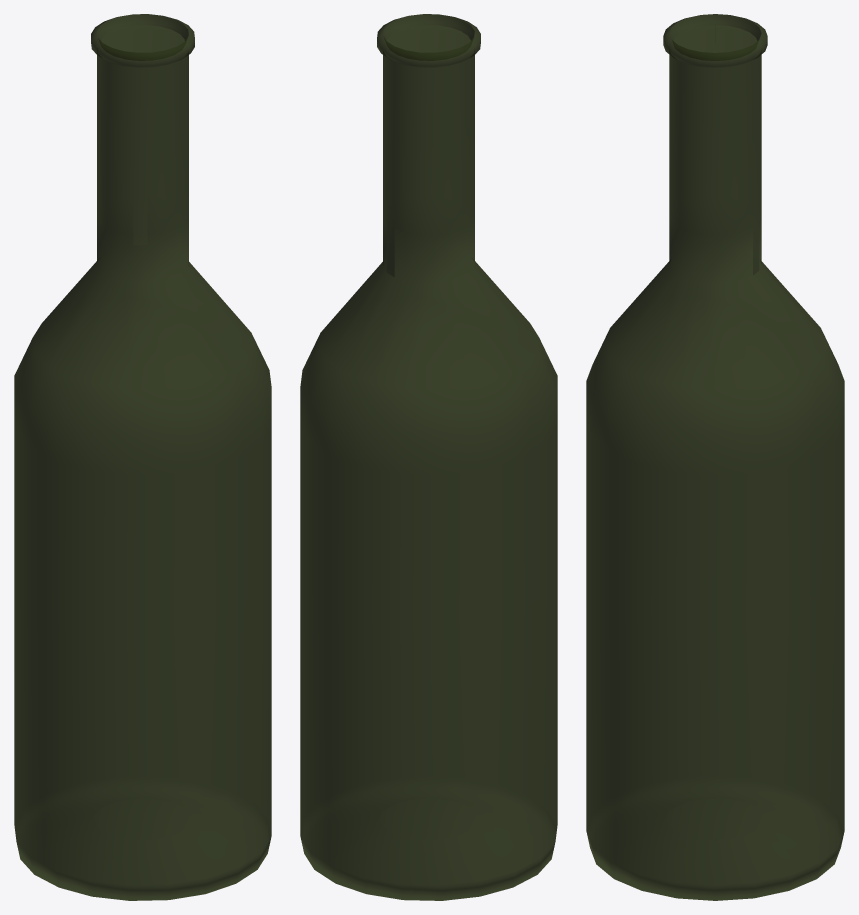
File: Flasche_Grün.fbx
The picture shows the model from 3 angles, left to right: view 1: azimuth 30°, elevation 25°; view 2: azimuth 150°, elevation 25°; view 3: azimuth 270°, elevation 25°; orthographic projection.
Parts seen in each view (by area): view 1: pCylinder2; view 2: pCylinder2; view 3: pCylinder2.
Boxes of the visible parts, bbox=[...] form: pCylinder2: bbox=[14, 14, 271, 900]; pCylinder2: bbox=[300, 14, 557, 900]; pCylinder2: bbox=[586, 14, 844, 900].
Bounding box in the file's own units: 20.65 × 71.78 × 20.65.
